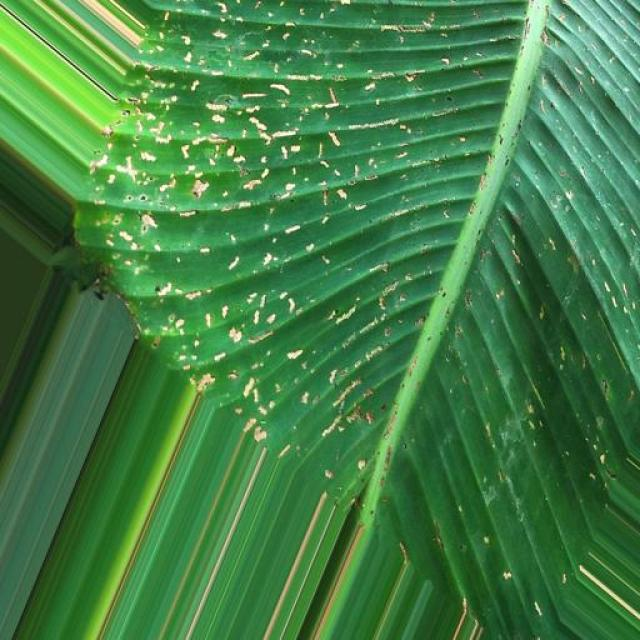Black_rot: (78, 0, 640, 625)
